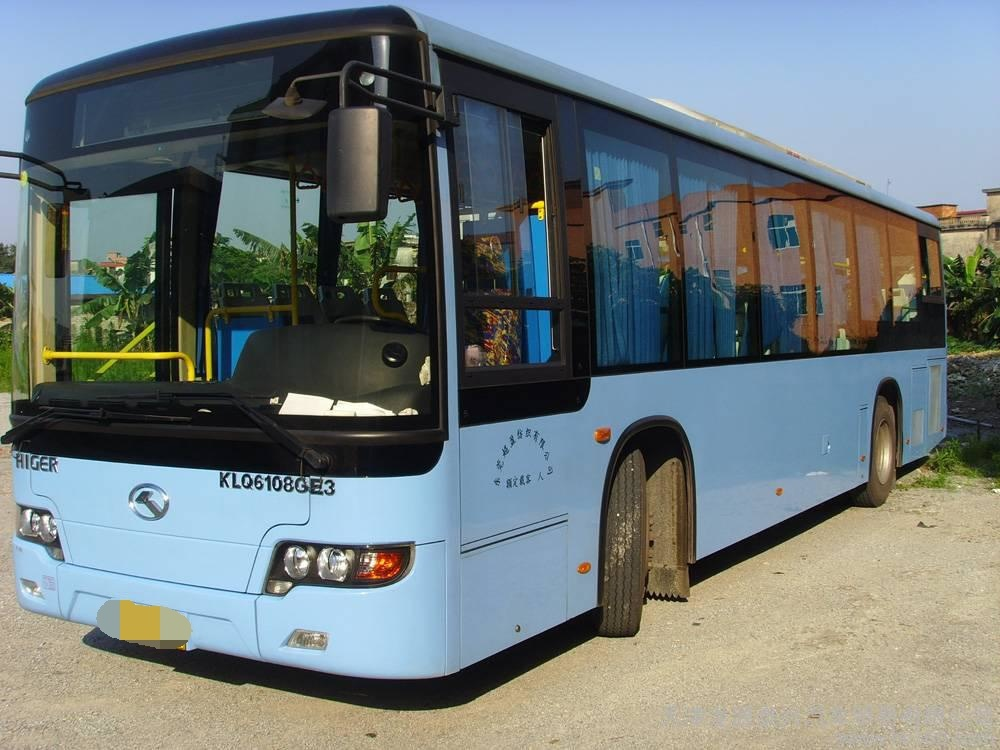bus: (25, 27, 959, 688)
